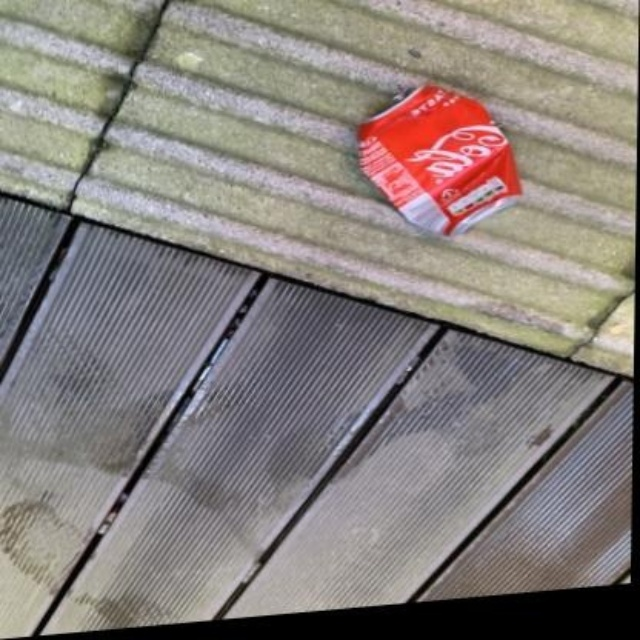trash: (357, 83, 520, 235)
